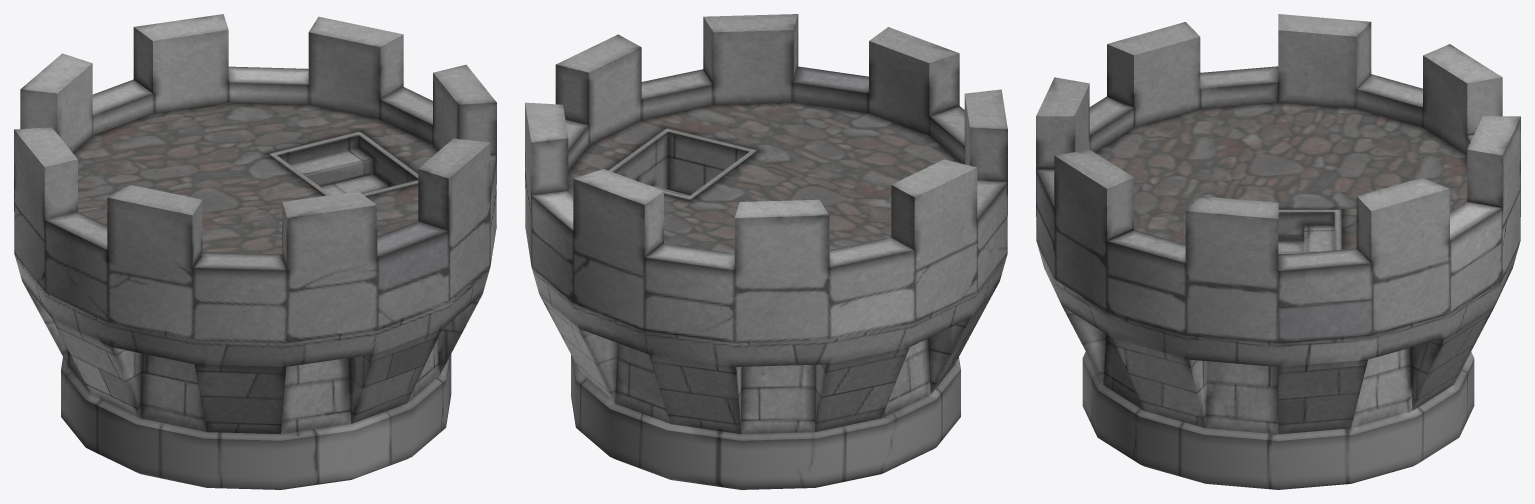
File: sb_obj_outdoor001_Castle01_CircleWallTop02.fbx
The picture shows the model from 3 angles, left to right: view 1: azimuth 30°, elevation 25°; view 2: azimuth 150°, elevation 25°; view 3: azimuth 270°, elevation 25°; orthographic projection.
Parts seen in each view (by area): view 1: sb_obj_outdoor001_Castle01_CircleWallTop02; view 2: sb_obj_outdoor001_Castle01_CircleWallTop02; view 3: sb_obj_outdoor001_Castle01_CircleWallTop02.
Part boxes in pixels (<box>): sb_obj_outdoor001_Castle01_CircleWallTop02: <box>14,14,496,489</box>; sb_obj_outdoor001_Castle01_CircleWallTop02: <box>525,14,1007,489</box>; sb_obj_outdoor001_Castle01_CircleWallTop02: <box>1036,14,1520,489</box>.
Bounding box in the file's own units: 3.83 × 2.55 × 3.83.
